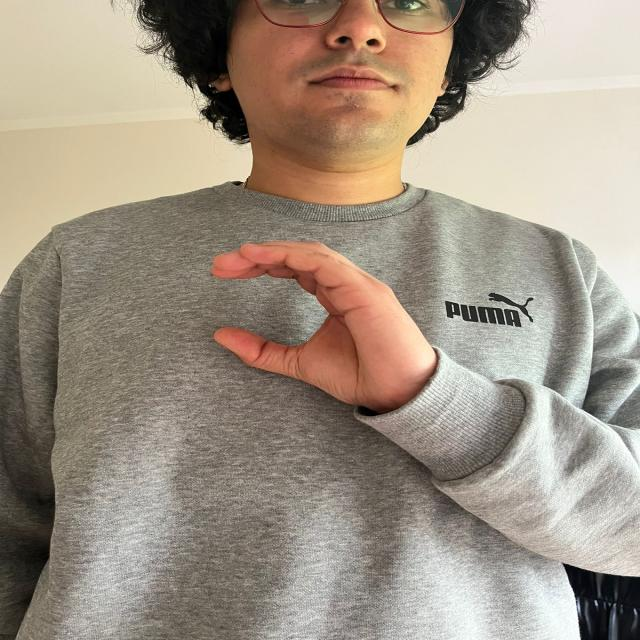C: (201, 226, 435, 404)
